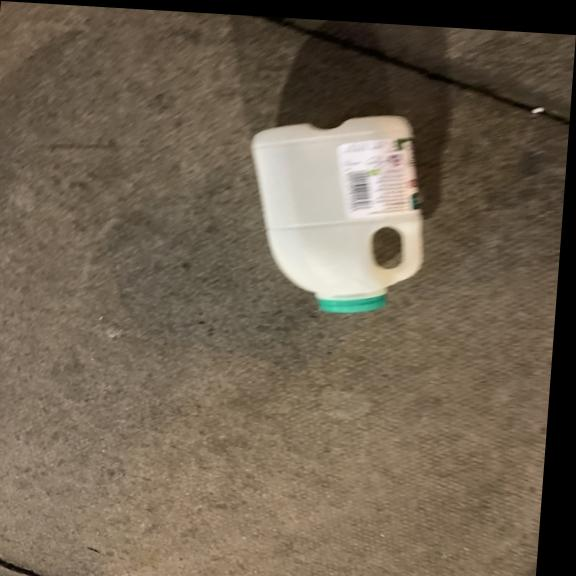Plastik: (233, 105, 438, 316)
